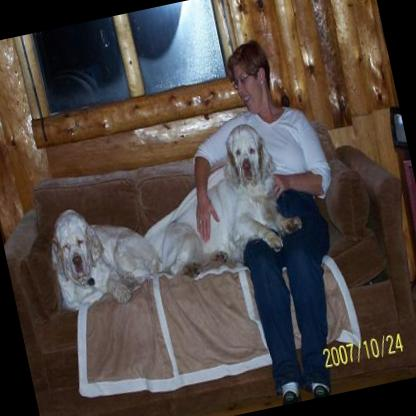clumber: (139, 114, 304, 270), (40, 192, 164, 315)
